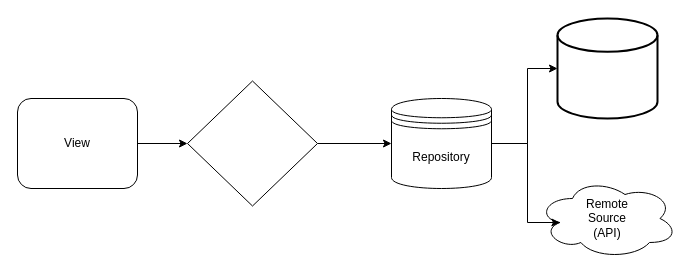
The diagram is 695 pixels wide and 276 high, and some of its shapes have lost their labels. Each missing label, with the centre of its shape:
"Controller" belongs at [252,143].
"Local Database" belongs at [607,68].
